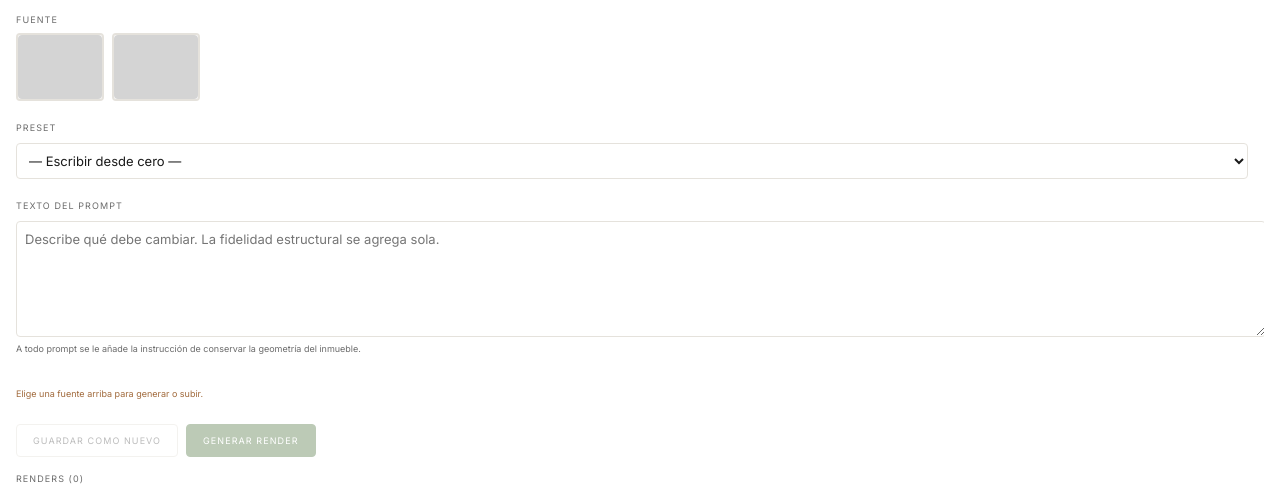
Scenario: RendersPanel › elegir un preset llena el texto editable
The image size is (1272, 501).
Select "Fachada minimalista" in the dropdown labelled "Preset": [632, 161] box left=16, top=143, right=1248, bottom=179
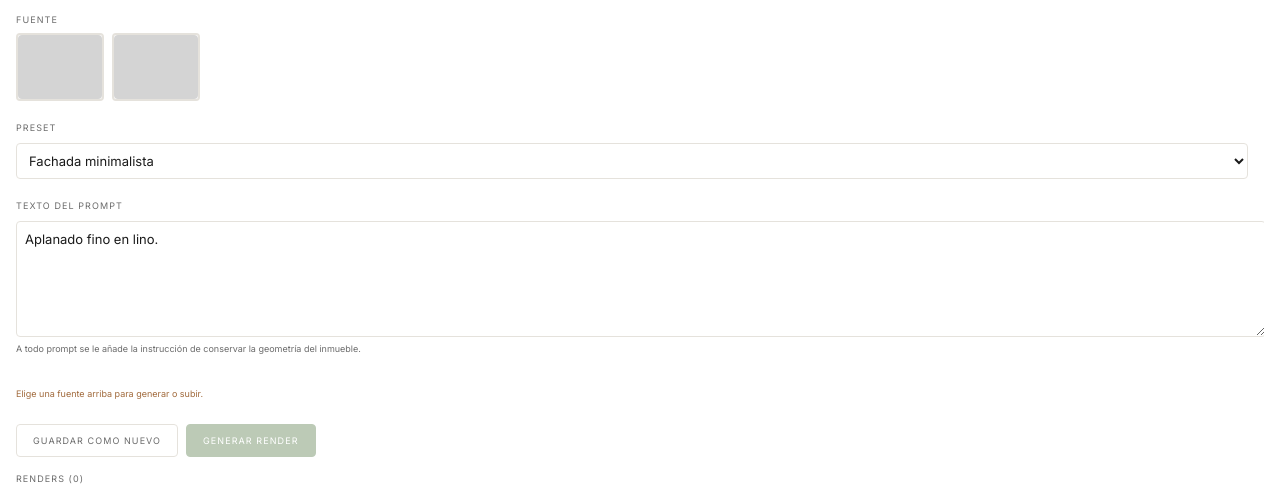
Result: the text box labelled "Texto del prompt" holds "Aplanado fino en lino." at left=16, top=221, right=1264, bottom=336
